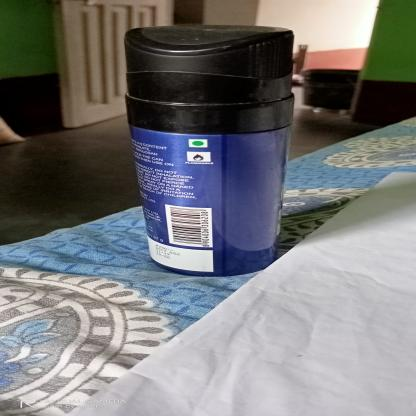bottle: (118, 22, 301, 279)
